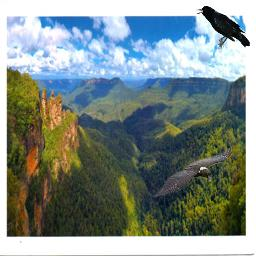Crow: (152, 148, 232, 198), (196, 6, 250, 49)
